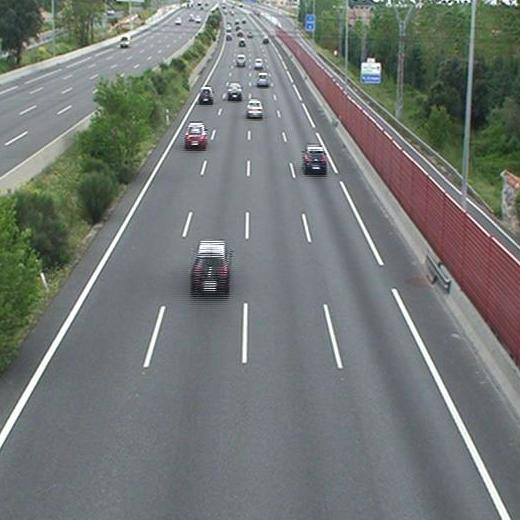car: (191, 241, 229, 290), (303, 146, 327, 171), (184, 124, 207, 146), (247, 101, 262, 117), (228, 82, 242, 98), (199, 87, 213, 102), (257, 73, 267, 87), (236, 55, 245, 67), (254, 58, 263, 69), (262, 35, 269, 44), (238, 39, 245, 46)
